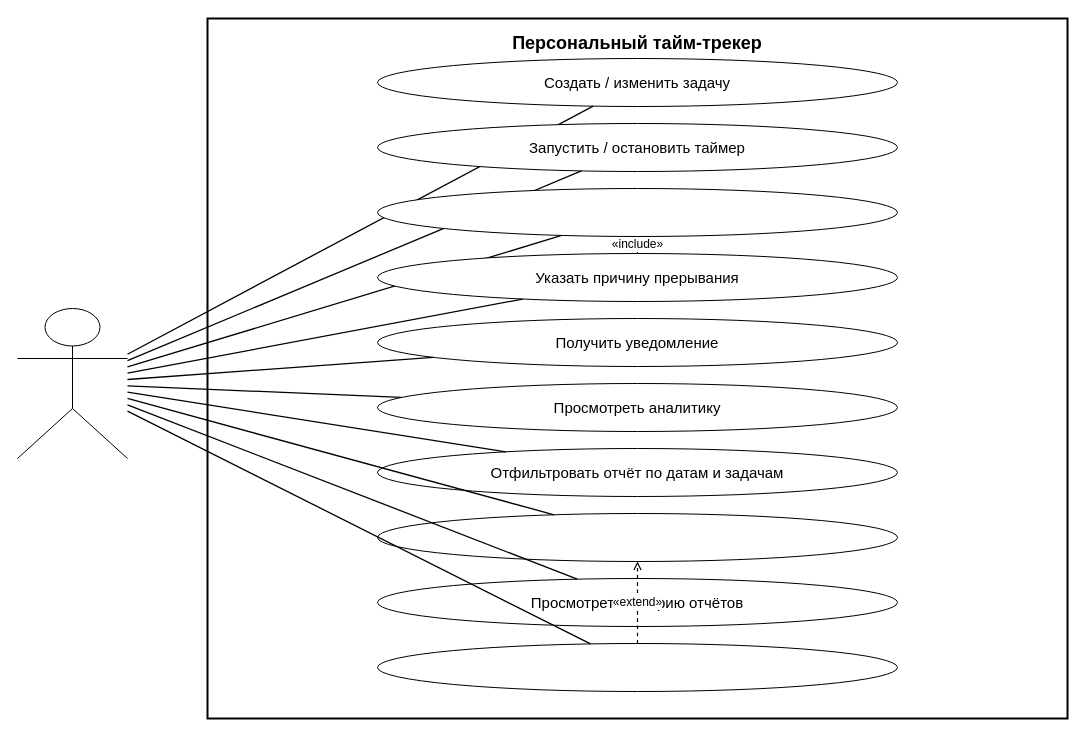
The diagram is 1086 pixels wide and 736 high, and some of its shapes have lost their labels. The box of each missing label's shape, as (x1, y1, x2, y2) in pixels:
Пользователь: (16, 308, 128, 458)
Приостановить / продолжить сеанс: (376, 188, 898, 236)
Сформировать отчёт: (376, 512, 898, 562)
Экспортировать отчёт в PDF / CSV: (376, 642, 898, 692)
